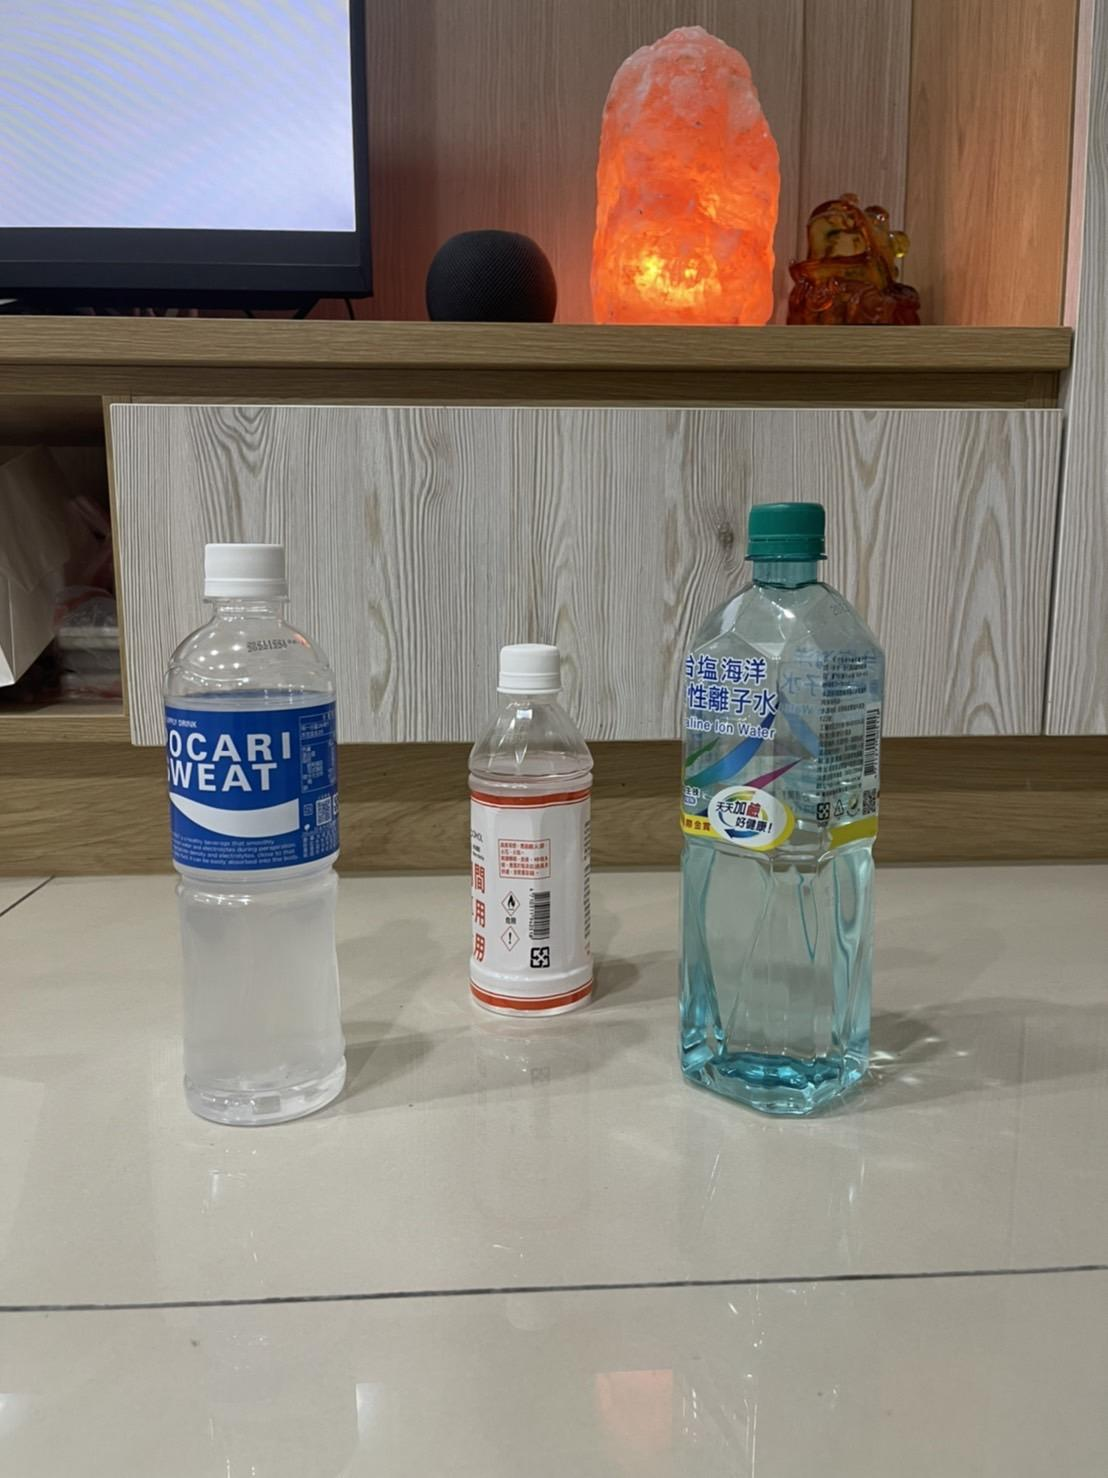bottle: (661, 0, 904, 389), (152, 0, 371, 404), (475, 0, 589, 303)
